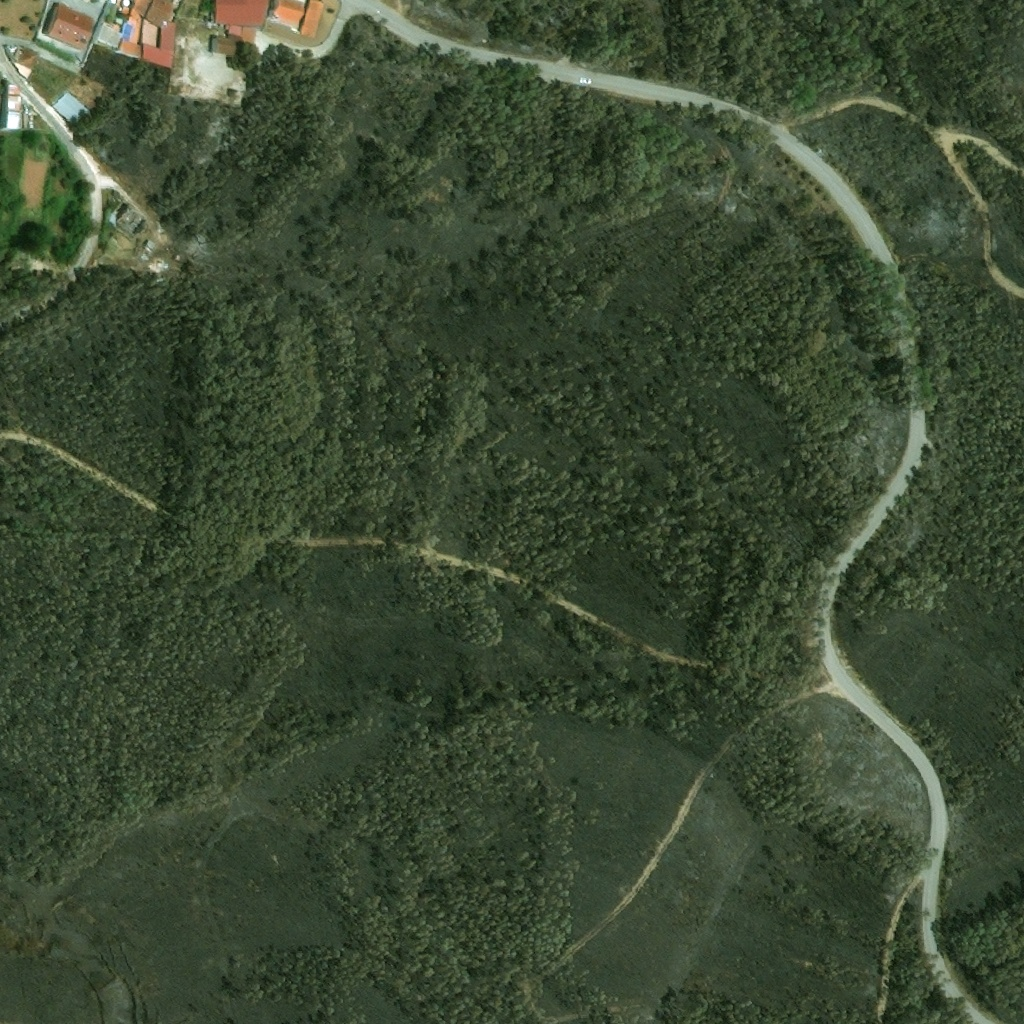0 no-damage: (42, 2, 95, 51), (142, 21, 176, 69), (214, 0, 270, 27), (51, 91, 89, 129), (114, 204, 148, 239), (297, 0, 322, 36), (3, 84, 22, 130), (272, 0, 307, 24), (208, 32, 244, 55), (145, 0, 175, 27), (117, 38, 142, 58), (17, 48, 39, 70), (130, 0, 150, 17), (242, 27, 256, 43), (143, 240, 154, 251)
